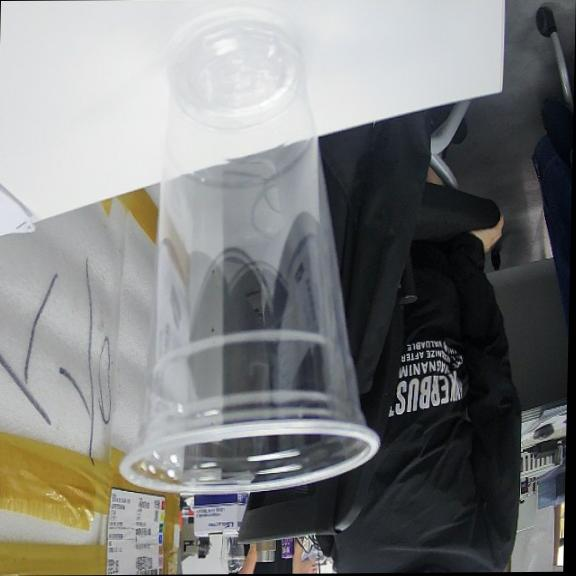Plastik: (120, 22, 377, 490)
